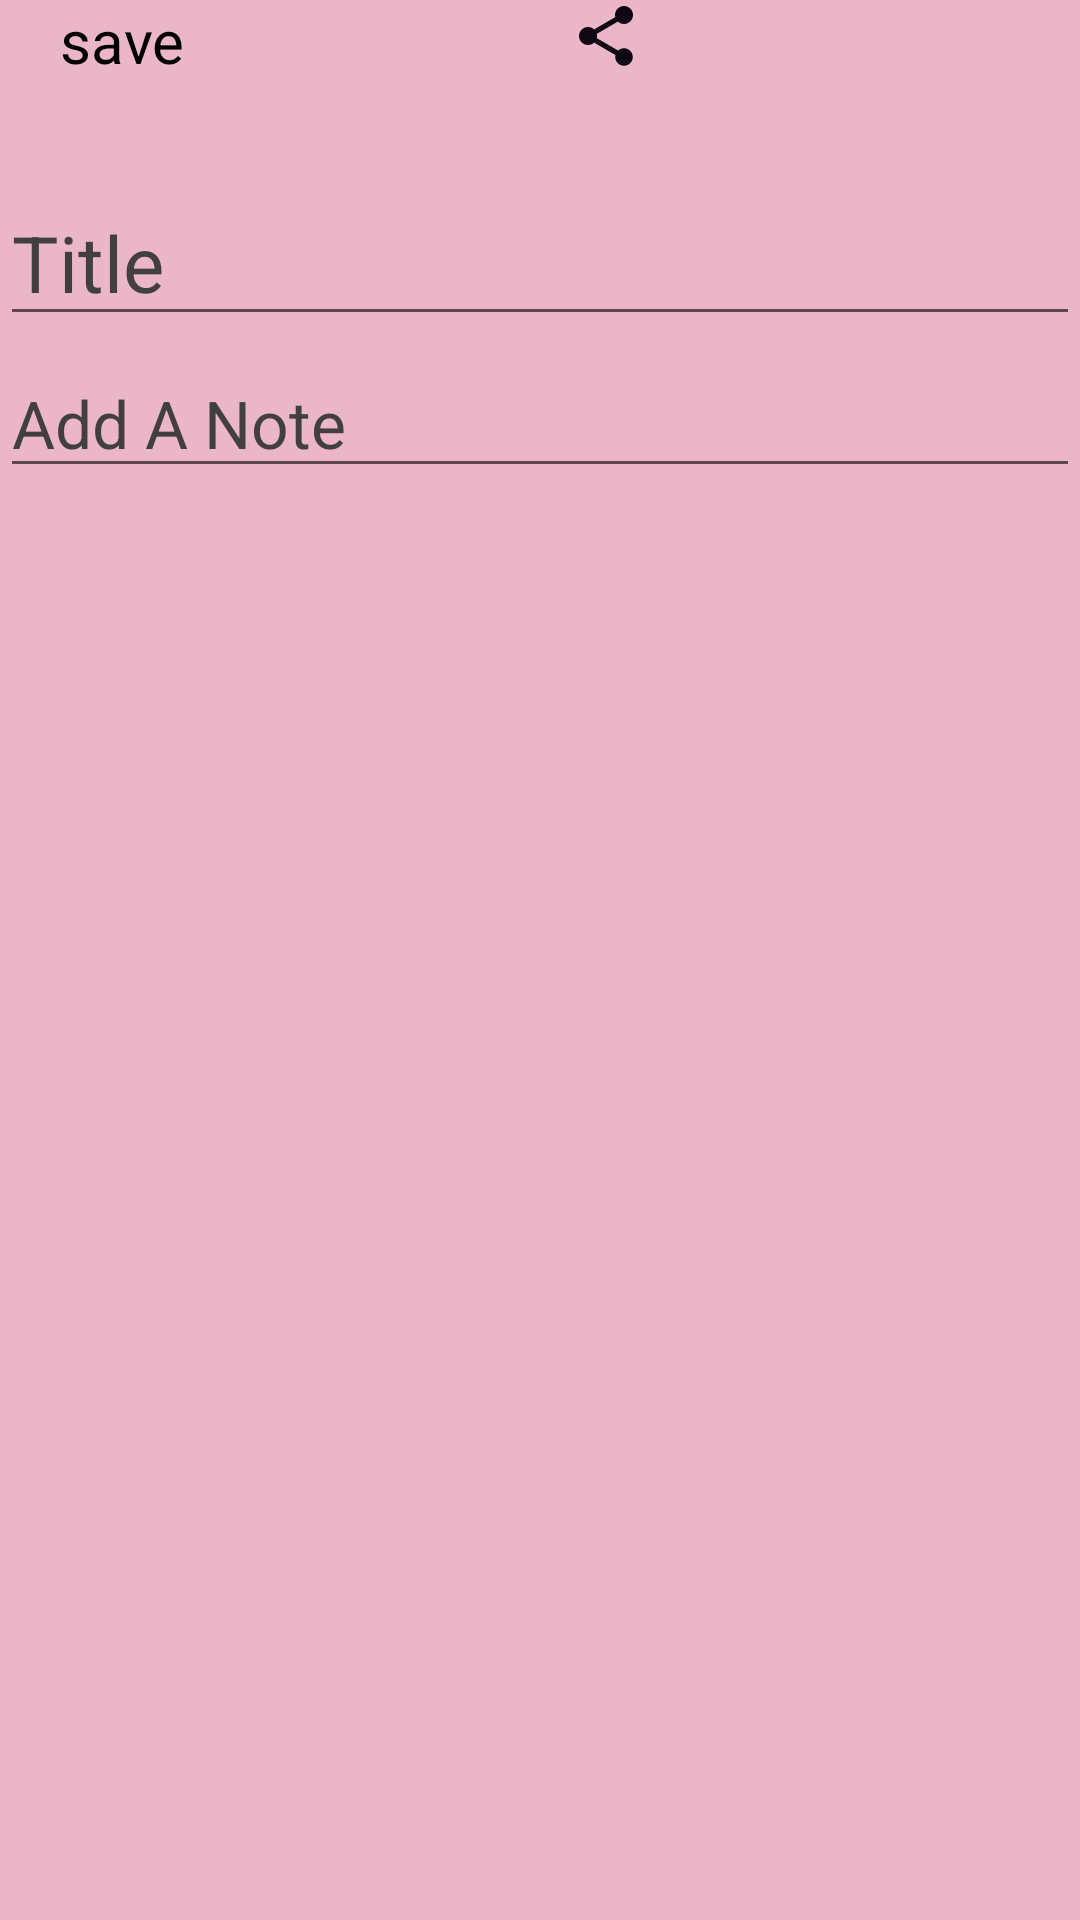

Screen size 1080*1920. Icon name, then its center in pixels as (x,y):
share: (606,36)
